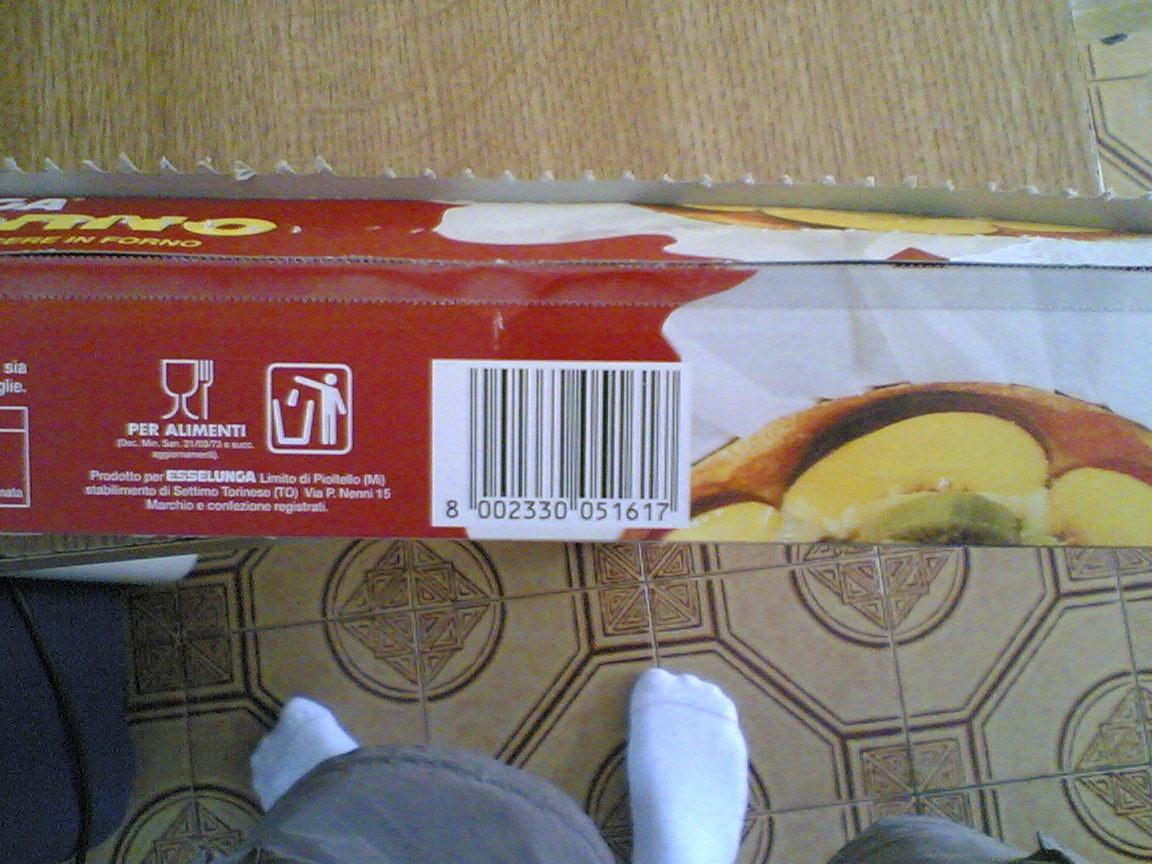Barcode: (430, 359, 695, 527)
